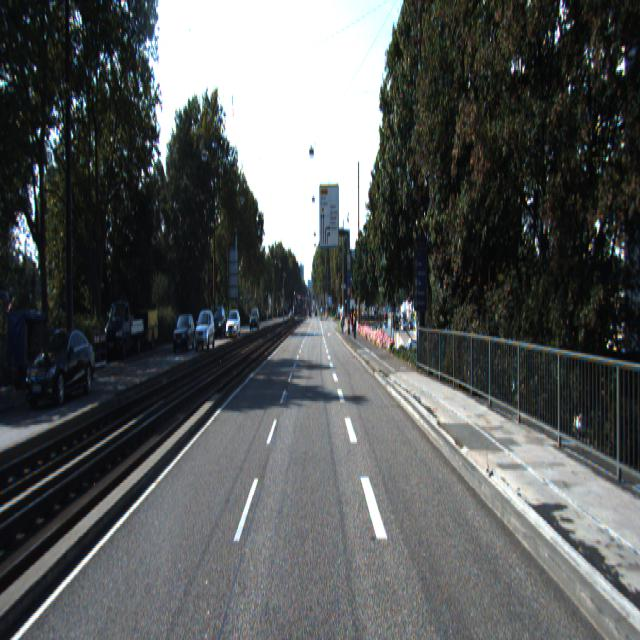Car: (26, 320, 100, 407), (8, 306, 55, 394), (104, 297, 144, 360), (172, 316, 198, 355), (194, 310, 216, 350), (141, 310, 159, 352), (225, 310, 241, 342)
